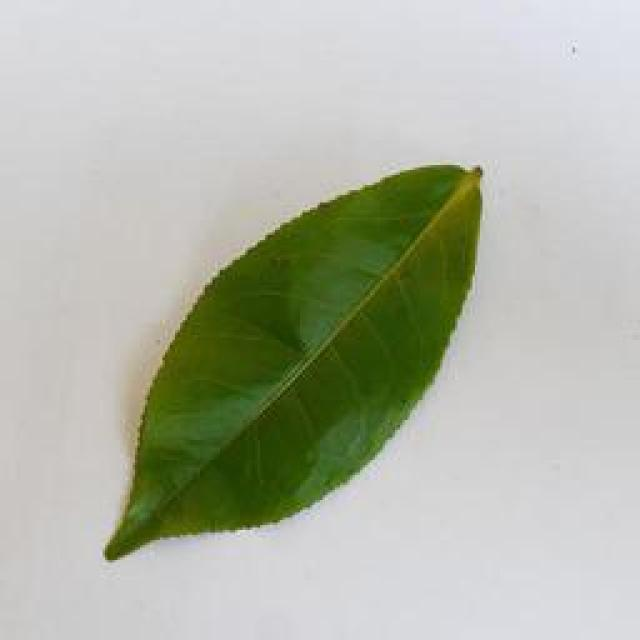Healthy: (118, 154, 488, 559)
